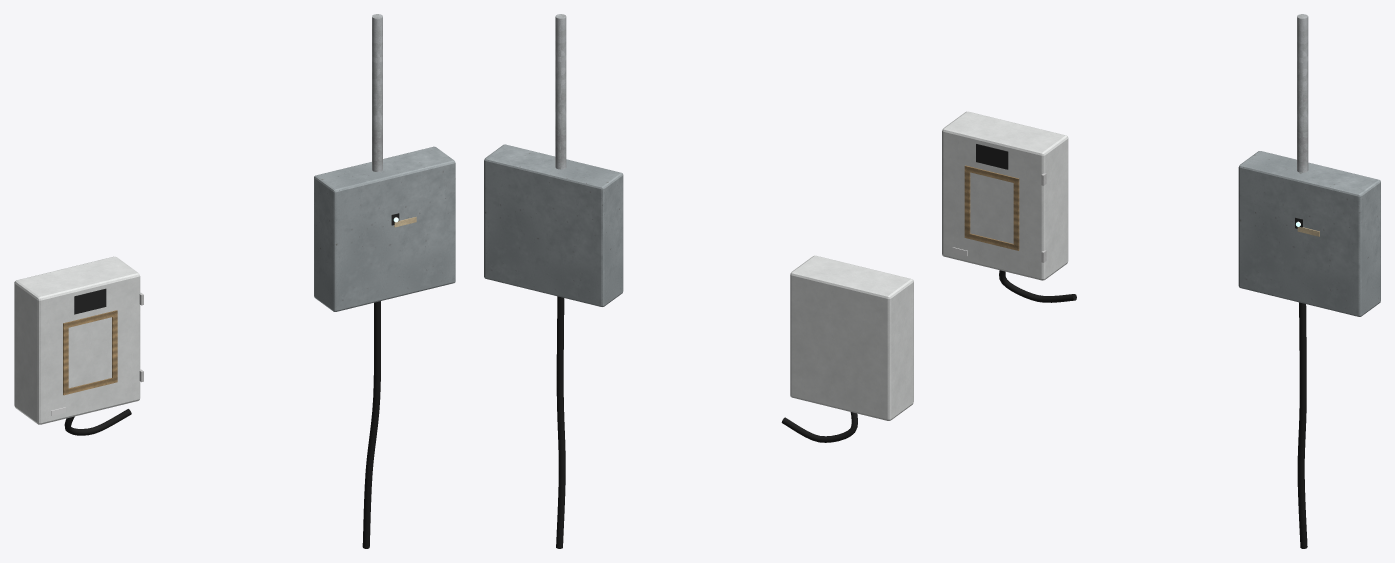
The model's file is B06_Battery_Breaker_Boxes.fbx.
3 renders of one model, left to right at view 1: azimuth 30°, elevation 25°; view 2: azimuth 150°, elevation 25°; view 3: azimuth 330°, elevation 25°, orthographic. The views are drawn at different scales.
Visible parts, largest first — view 1: GreyBox_Body, WhiteBox_Body, GreyBox_Cable_Down, GreyBox_Conduit_Top, WhiteBox_Label, WhiteBox_Cable; view 2: GreyBox_Body, WhiteBox_Body, GreyBox_Cable_Down, GreyBox_Conduit_Top, WhiteBox_Cable; view 3: GreyBox_Body, WhiteBox_Body, GreyBox_Cable_Down, GreyBox_Conduit_Top, WhiteBox_Cable, WhiteBox_Label.
Boxes of the visible parts, <box> form: GreyBox_Body: <box>314,146,455,311</box>; WhiteBox_Body: <box>14,256,140,424</box>; GreyBox_Cable_Down: <box>362,301,380,548</box>; GreyBox_Conduit_Top: <box>372,14,382,171</box>; WhiteBox_Label: <box>74,288,106,314</box>; WhiteBox_Cable: <box>64,409,131,435</box>; GreyBox_Body: <box>484,144,623,306</box>; WhiteBox_Body: <box>790,255,913,420</box>; GreyBox_Cable_Down: <box>556,296,565,548</box>; GreyBox_Conduit_Top: <box>555,14,566,169</box>; WhiteBox_Cable: <box>781,412,857,442</box>; GreyBox_Body: <box>1238,151,1380,316</box>; WhiteBox_Body: <box>942,111,1068,280</box>; GreyBox_Cable_Down: <box>1297,302,1307,548</box>; GreyBox_Conduit_Top: <box>1297,14,1308,172</box>; WhiteBox_Cable: <box>999,270,1076,302</box>; WhiteBox_Label: <box>976,144,1008,169</box>.
Size of the model in its own units: 1.71 by 2.09 by 0.19.
Materials: 10 (7 with a texture image).
